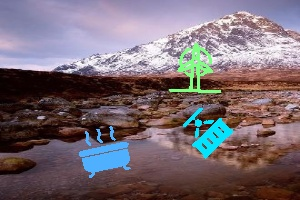人爬墙: (183, 107, 232, 157)
小风扇: (167, 45, 223, 95)
香炉: (82, 129, 133, 175)
